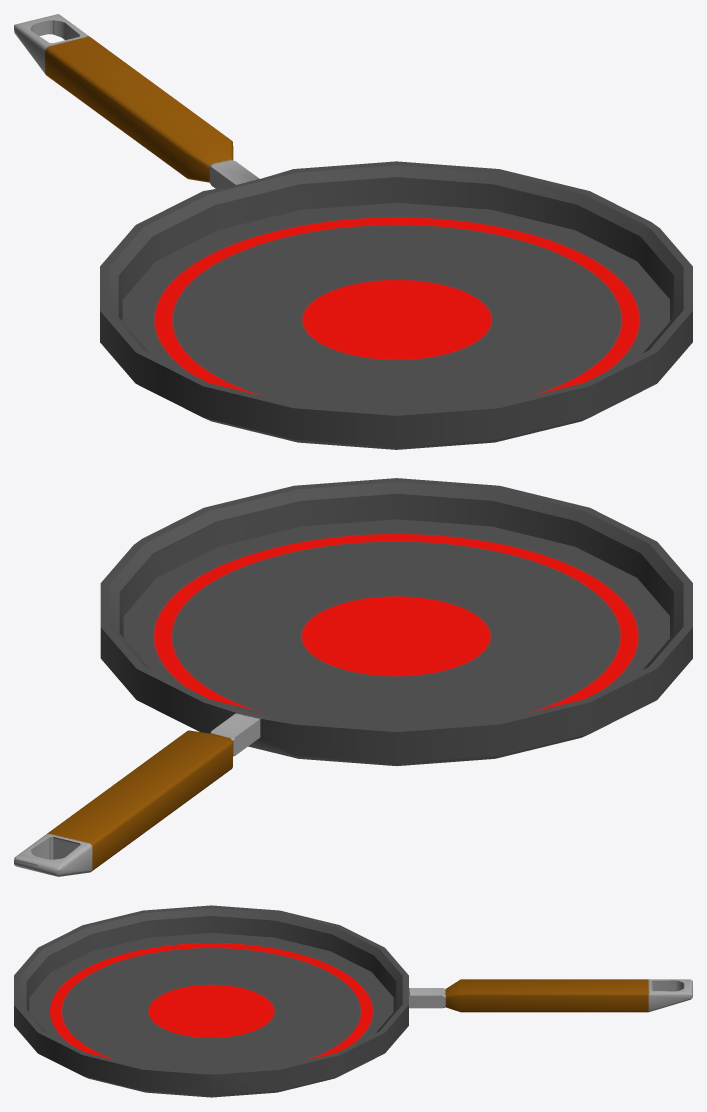
Rendered from FryingPan.FBX.
3 renders of one model, top to bottom at view 1: azimuth 30°, elevation 25°; view 2: azimuth 150°, elevation 25°; view 3: azimuth 270°, elevation 25°, orthographic. The views are drawn at different scales.
Parts seen in each view (by area): view 1: Cylinder001; view 2: Cylinder001; view 3: Cylinder001.
Part boxes in pixels (bbox=[...]): Cylinder001: bbox=[14, 14, 692, 449]; Cylinder001: bbox=[14, 478, 692, 876]; Cylinder001: bbox=[14, 905, 692, 1097].
Bounding box in the file's own units: 122 × 206 × 11.29.
Materials: 1 (1 with a texture image).
